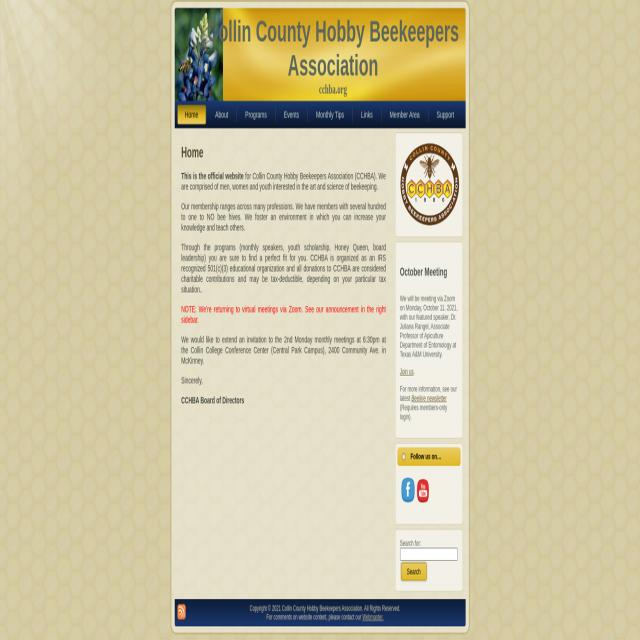button: (207, 15, 459, 82), (400, 142, 460, 228), (308, 104, 351, 124), (382, 105, 427, 123), (238, 105, 273, 125), (429, 105, 465, 124), (177, 104, 206, 126), (277, 106, 307, 125), (208, 106, 235, 126), (353, 105, 381, 124), (401, 563, 426, 581), (401, 478, 415, 502), (416, 478, 430, 502), (178, 605, 185, 620)
field: (400, 548, 458, 560)
